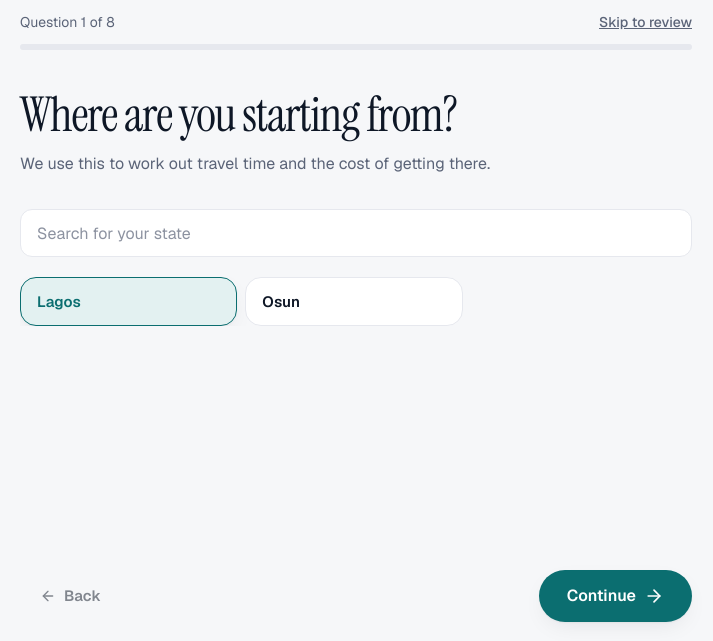
Test: QuizPage › filters the state list as you type
Check: the heading "Where are you starting from?" is shown, box [20, 83, 457, 146]
In the search field named "Search states": (356, 233) [20, 209, 692, 257], type "osu"
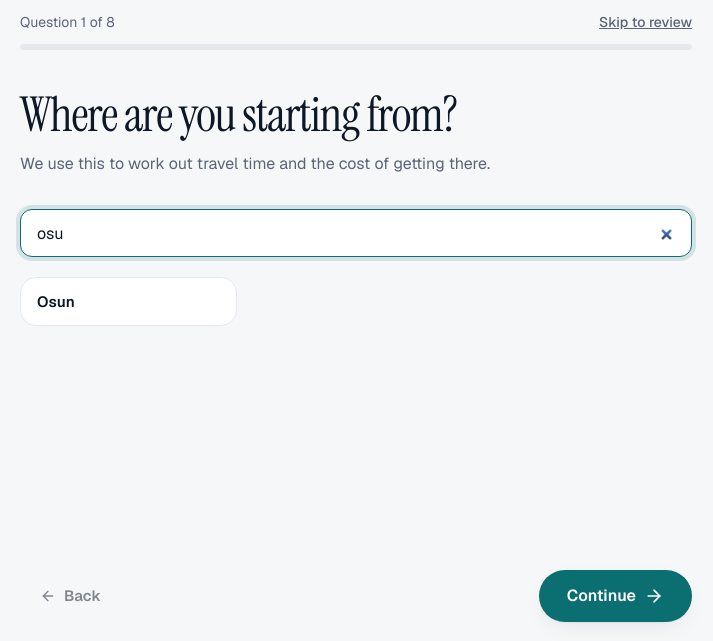
Check: the button "Osun" is shown, box [20, 277, 237, 326]
Check: the button "Lagos" is gone
